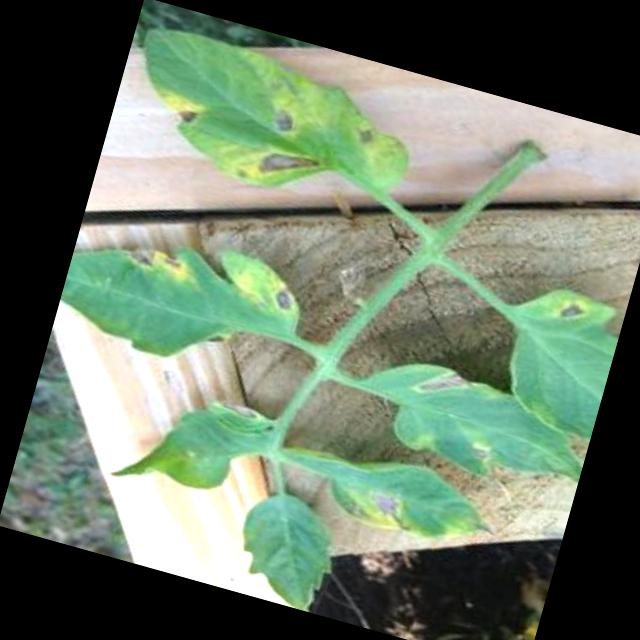Early_blight: (229, 136, 323, 199), (114, 236, 202, 289), (410, 356, 474, 409), (152, 88, 208, 131), (359, 487, 404, 532), (260, 280, 302, 322), (264, 105, 302, 139), (556, 296, 591, 327), (217, 400, 259, 423), (463, 441, 494, 467)
